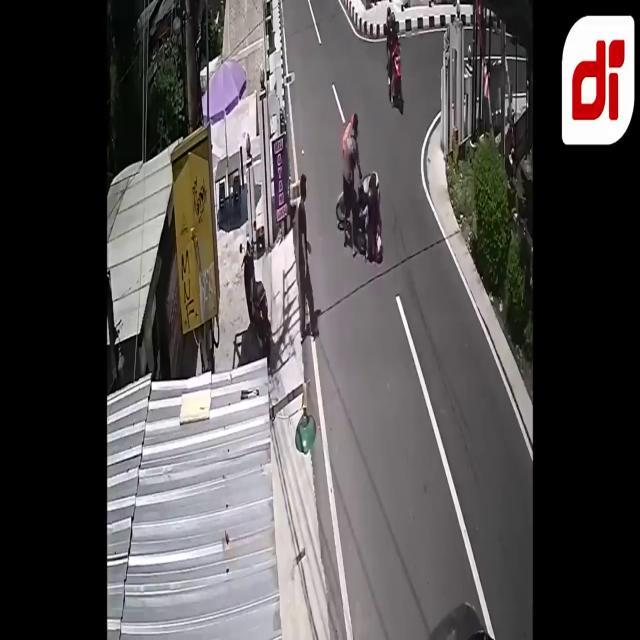multiple_accident: (308, 87, 420, 290)
normal: (370, 0, 435, 123)
